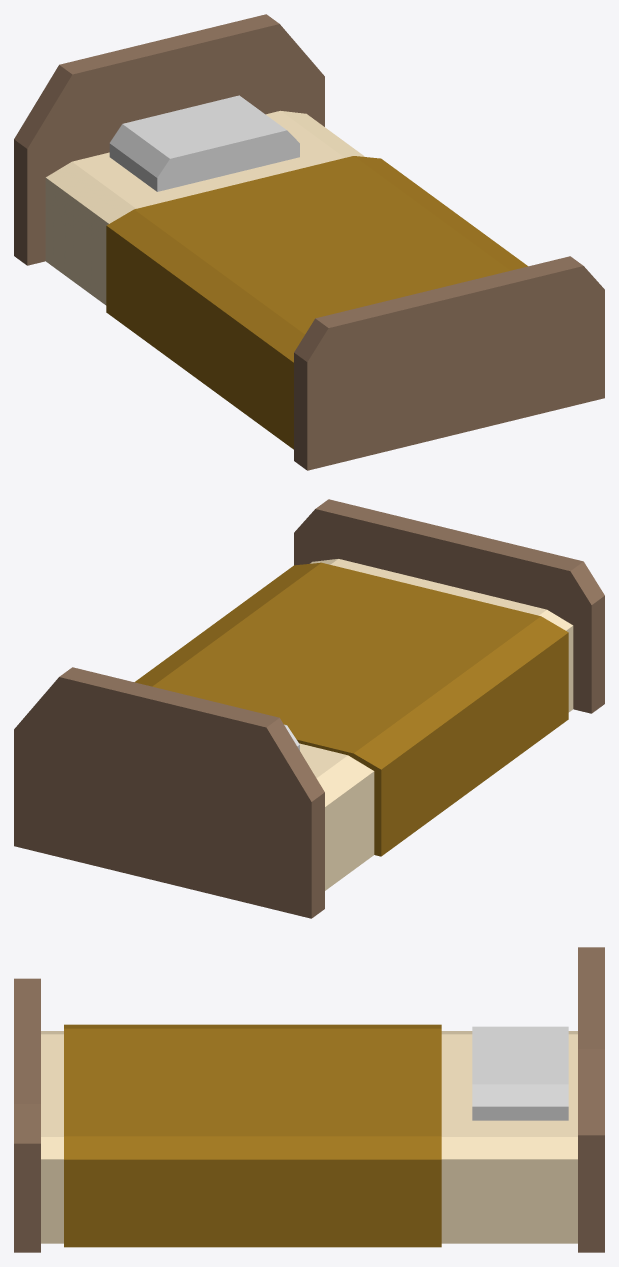
File: Bed 01.FBX
The picture shows the model from 3 angles, top to bottom: view 1: azimuth 30°, elevation 25°; view 2: azimuth 150°, elevation 25°; view 3: azimuth 270°, elevation 25°; orthographic projection.
Parts seen in each view (by area): view 1: Bed 01; view 2: Bed 01; view 3: Bed 01.
Part boxes in pixels (x1,y1,x2,y2): Bed 01: (14, 14, 604, 470); Bed 01: (14, 499, 604, 918); Bed 01: (14, 947, 604, 1252).
Size of the model in its own units: 187 by 108 by 319.
